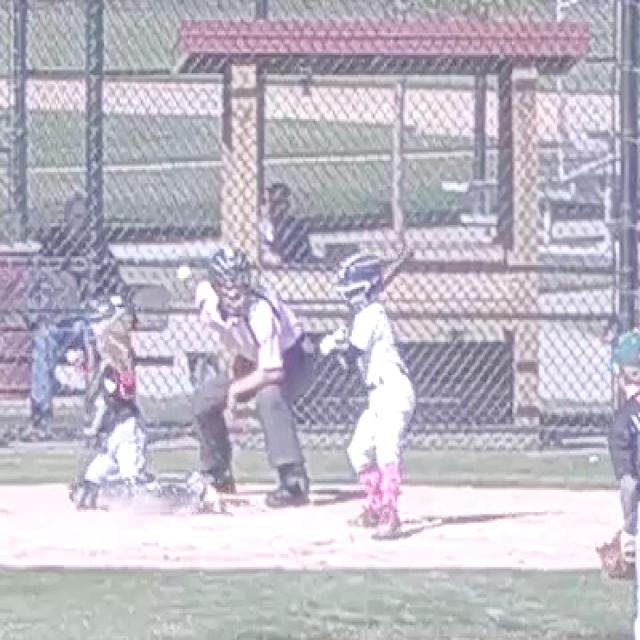baseball: (177, 266, 191, 280)
